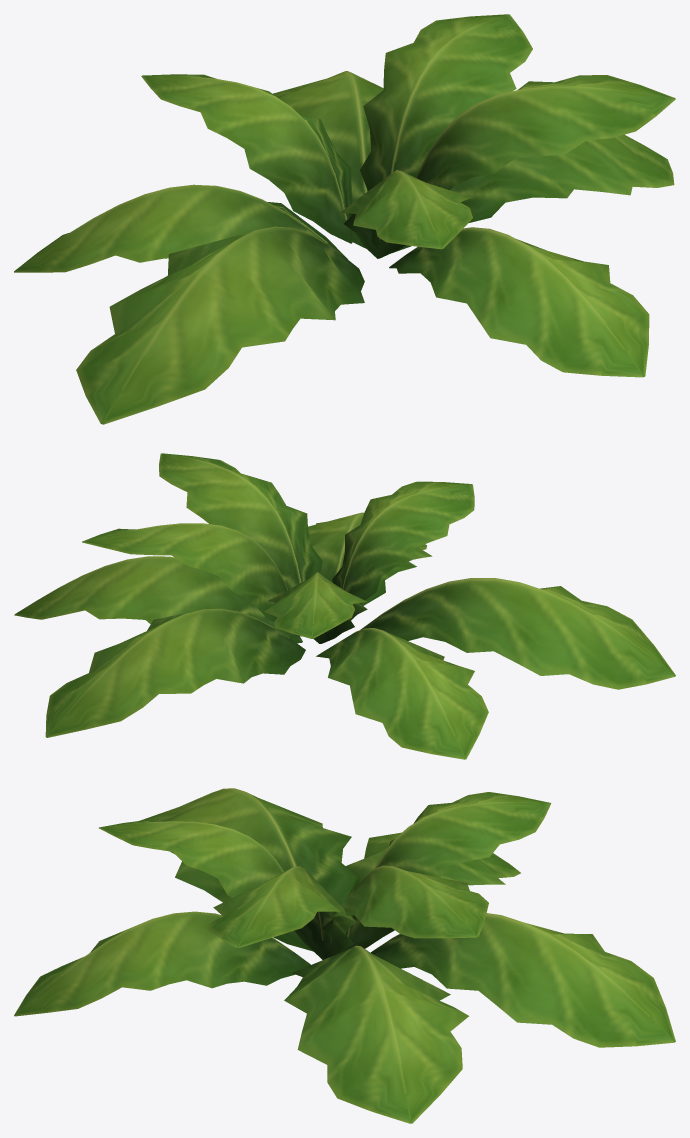
File: NP_Daisy_Young_LOD1.fbx
3 views of the same model, one above another, from view 1: azimuth 30°, elevation 25°; view 2: azimuth 150°, elevation 25°; view 3: azimuth 270°, elevation 25° (orthographic). The views are drawn at different scales.
Parts seen in each view (by area): view 1: NP_Daisy_Young_LOD1; view 2: NP_Daisy_Young_LOD1; view 3: NP_Daisy_Young_LOD1.
Part boxes in pixels (bbox=[...]): NP_Daisy_Young_LOD1: bbox=[14, 14, 675, 424]; NP_Daisy_Young_LOD1: bbox=[14, 453, 675, 759]; NP_Daisy_Young_LOD1: bbox=[14, 788, 675, 1123].
Size of the model in its own units: 59.61 by 14.34 by 54.35.
